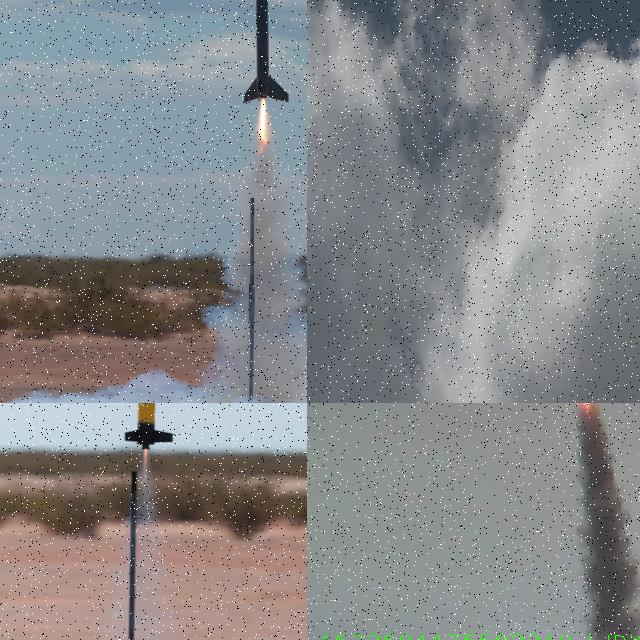Rocket: (242, 0, 290, 103), (124, 403, 173, 450), (512, 194, 516, 204)
